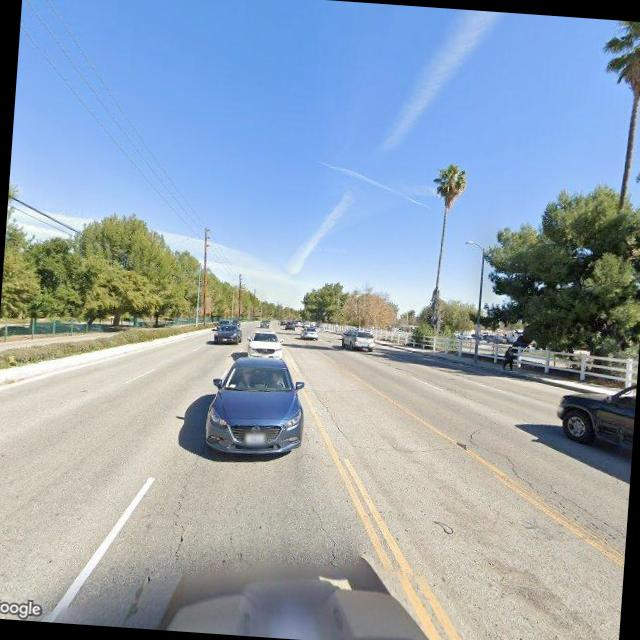crack: (462, 429, 628, 548), (162, 451, 202, 569), (303, 502, 345, 568), (349, 434, 455, 459), (310, 389, 351, 438)
